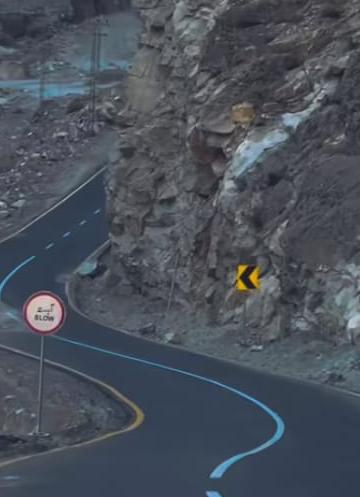left_turn: (8, 344, 360, 449), (238, 262, 258, 290)
